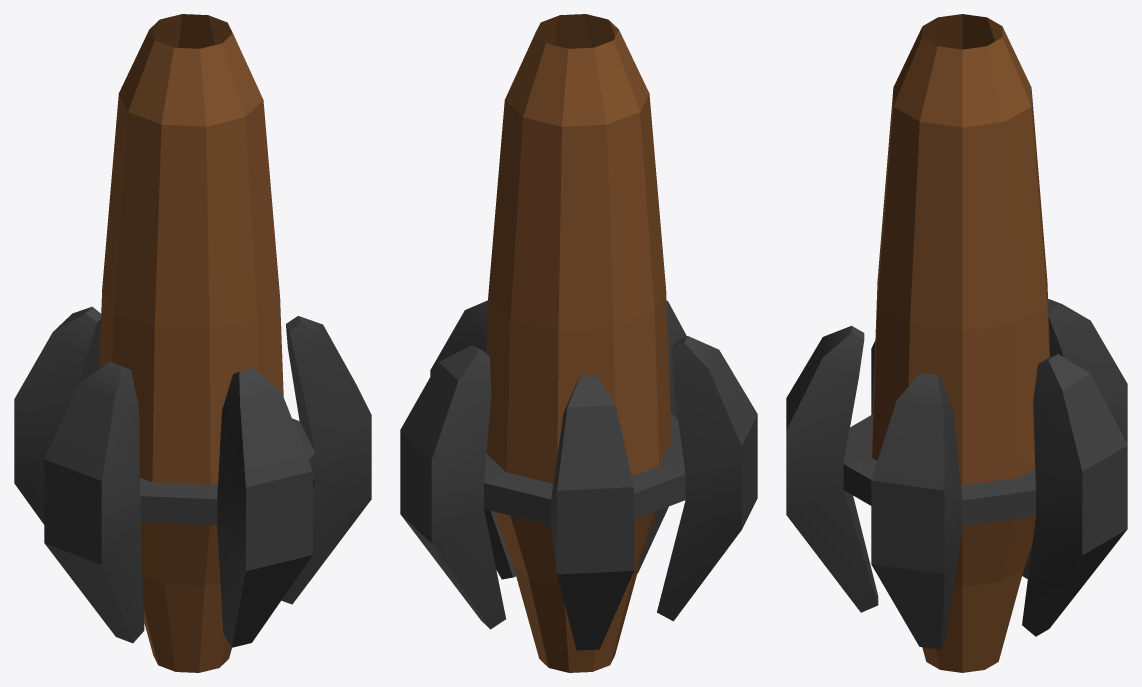
File: Torch.fbx
3 renders of one model, left to right at view 1: azimuth 30°, elevation 25°; view 2: azimuth 150°, elevation 25°; view 3: azimuth 270°, elevation 25°, orthographic.
Visible parts, largest first — view 1: pCylinder1; view 2: pCylinder1; view 3: pCylinder1.
Part boxes in pixels (box(x1,y1,x2,y2)): pCylinder1: box(14, 14, 371, 672); pCylinder1: box(400, 14, 757, 672); pCylinder1: box(786, 14, 1127, 672).
Bounding box in the file's own units: 0.5 × 0.9601 × 0.4755.
1 material, 1 textured.
